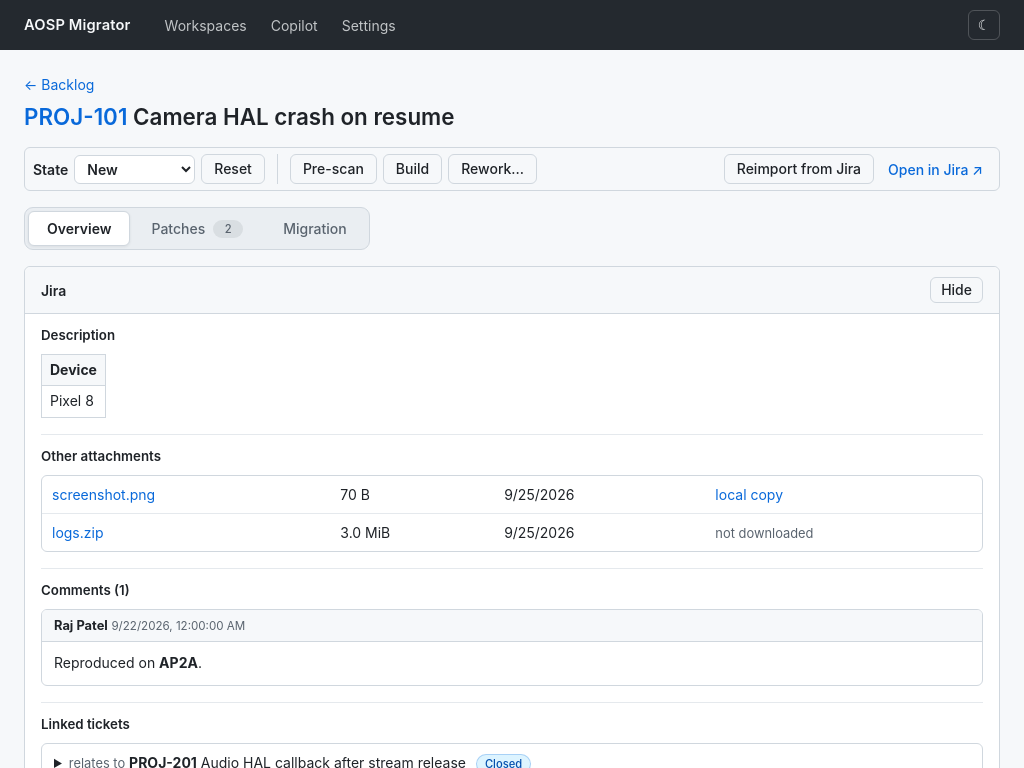
Test: ItemPage › shows the ticket with sanitized description, comments, attachments and links
Expected: the heading "PROJ-101 Camera HAL crash on resume" is shown, [24,103,454,131]
Expected: the table "Device Pixel 8" is shown, [41,354,106,418]
The Jira panel collapses (the fields stay in the side panel), and stays collapsed on the next visit.
Click the button "Hide" at (957, 290), box [930,277,983,303]
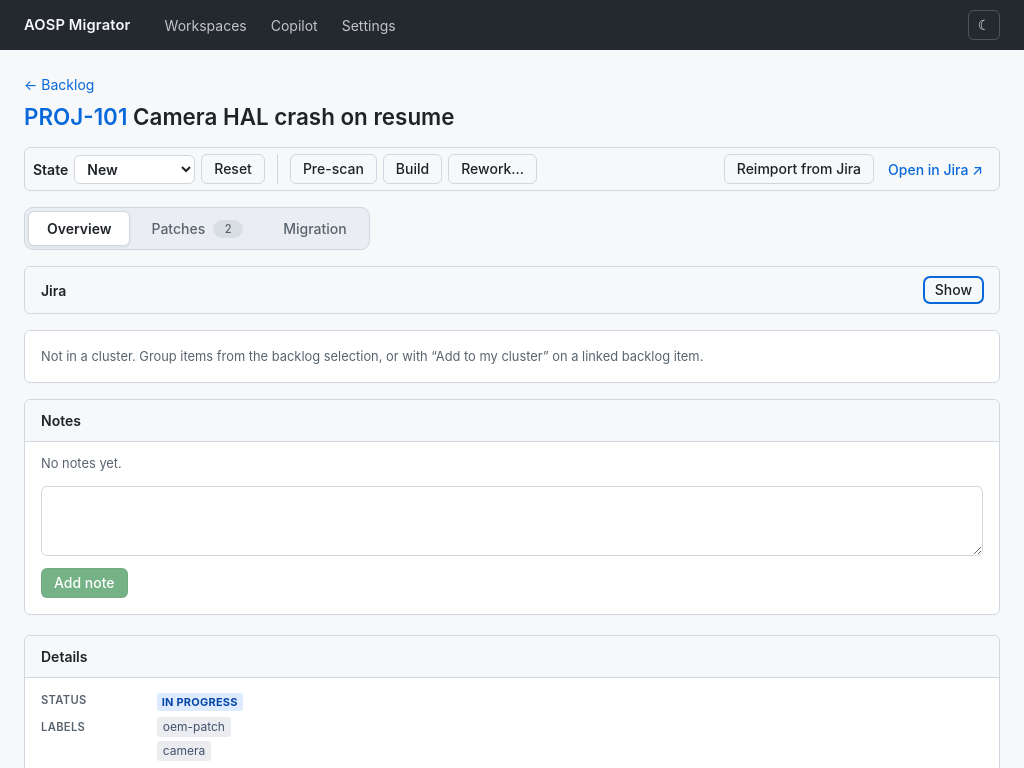
Expected: the list item "camera" is shown, [157,741,211,761]
Now the heading "Description" is gone
